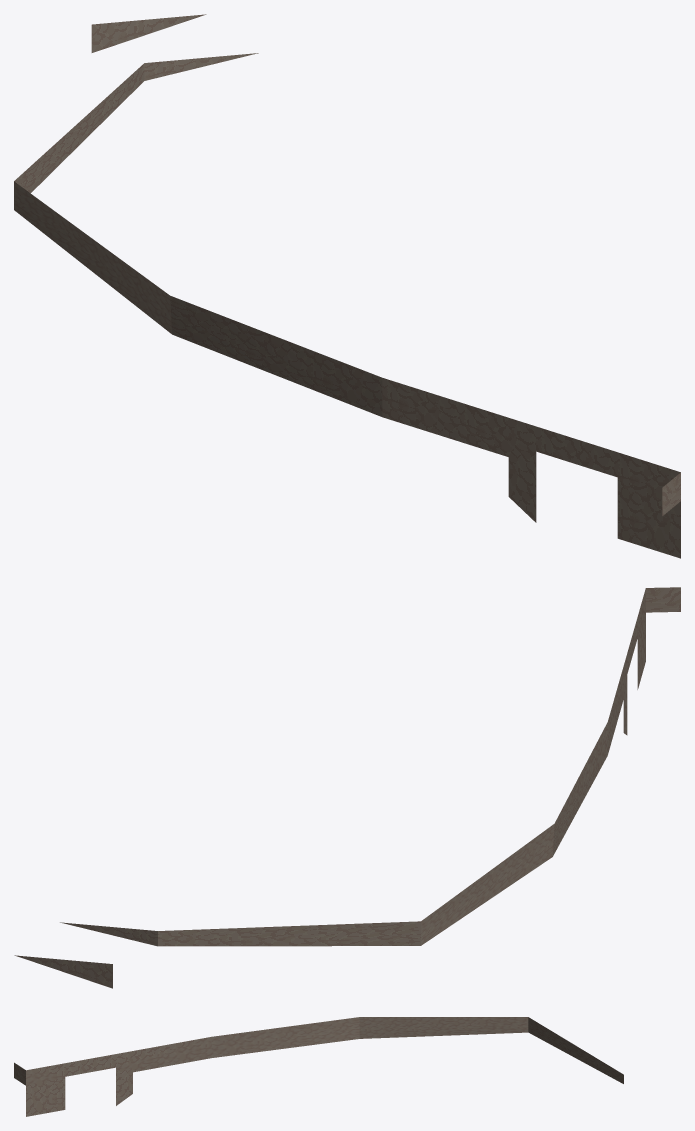
The model's file is kd_stage_135ebf_1_16.glb.
The picture shows the model from 3 angles, top to bottom: view 1: azimuth 30°, elevation 25°; view 2: azimuth 150°, elevation 25°; view 3: azimuth 270°, elevation 25°; orthographic projection. The views are drawn at different scales.
Visible parts, largest first — view 1: kd_stage_135ebf_1_16; view 2: kd_stage_135ebf_1_16; view 3: kd_stage_135ebf_1_16.
Boxes of the visible parts, left/top/right/bottom form: kd_stage_135ebf_1_16: left=14, top=14, right=680, bottom=558; kd_stage_135ebf_1_16: left=14, top=587, right=680, bottom=988; kd_stage_135ebf_1_16: left=14, top=1017, right=623, bottom=1116.
Bounding box in the file's own units: 9.73 × 2.69 × 31.1.
1 material, 1 textured.
